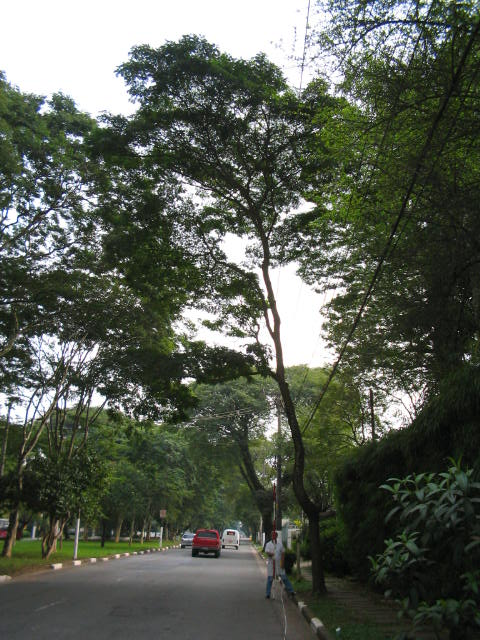crown: (104, 30, 347, 250)
stem: (255, 229, 338, 595)
stick: (265, 483, 285, 598)
tree: (103, 29, 349, 597), (1, 69, 202, 558)
